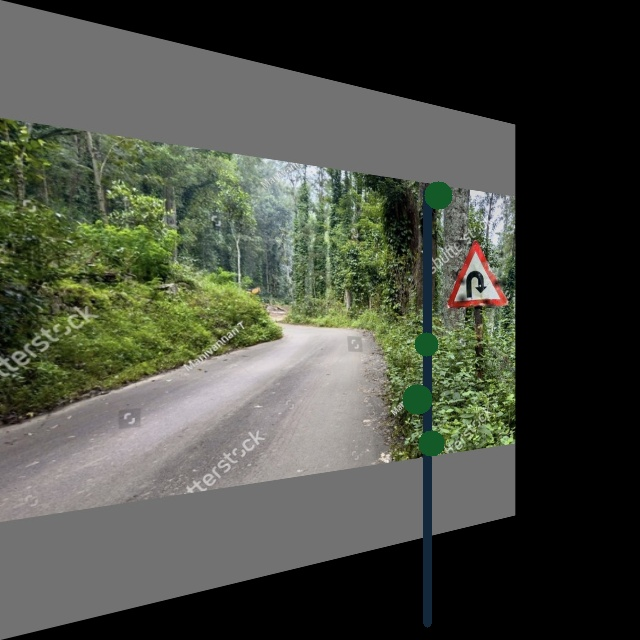Right_Hair_Pin_Bend: (448, 240, 506, 308)
